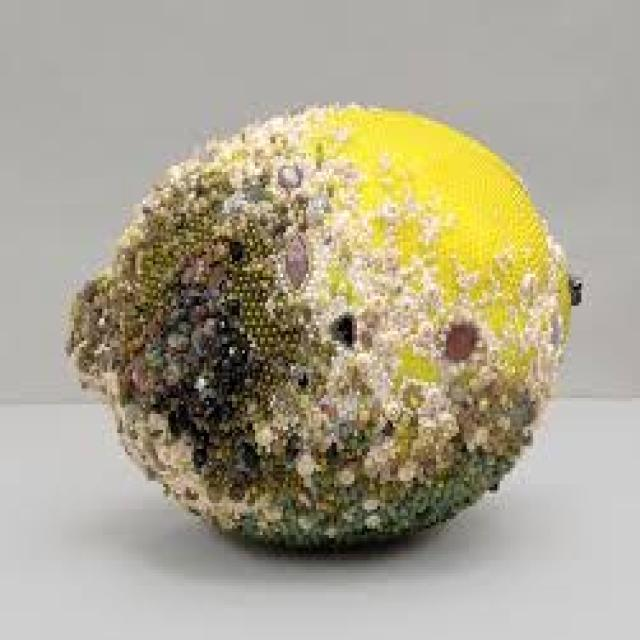food_waste: (66, 105, 579, 541)
